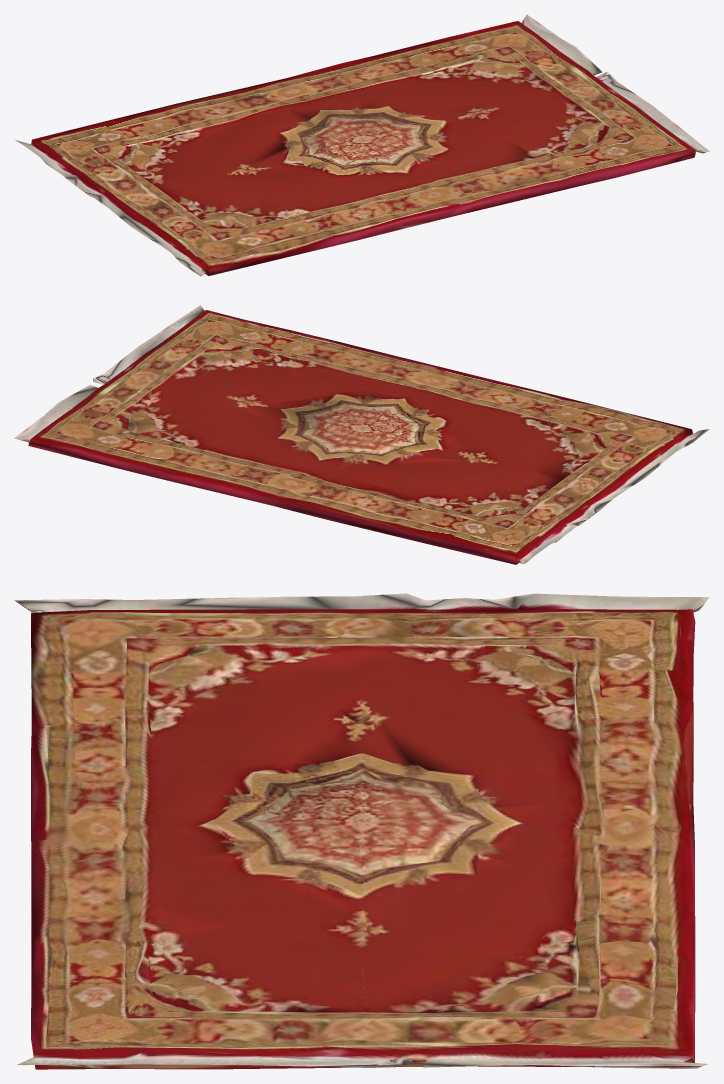
Rendered from au_furn_rug_imperial.glb.
3 renders of one model, top to bottom at view 1: azimuth 30°, elevation 25°; view 2: azimuth 150°, elevation 25°; view 3: azimuth 270°, elevation 25°, orthographic. The views are drawn at different scales.
Parts seen in each view (by area): view 1: tripo_node_635880fb-b897-4be3-adfc-ecc5d3059e69; view 2: tripo_node_635880fb-b897-4be3-adfc-ecc5d3059e69; view 3: tripo_node_635880fb-b897-4be3-adfc-ecc5d3059e69.
Boxes of the visible parts, x1=… form: tripo_node_635880fb-b897-4be3-adfc-ecc5d3059e69: x1=15, y1=14, x2=709, y2=276; tripo_node_635880fb-b897-4be3-adfc-ecc5d3059e69: x1=14, y1=305, x2=709, y2=564; tripo_node_635880fb-b897-4be3-adfc-ecc5d3059e69: x1=14, y1=593, x2=709, y2=1069.
Size of the model in its own units: 0.9784 by 0.0383 by 0.6105.
Materials: 1 (1 with a texture image).
